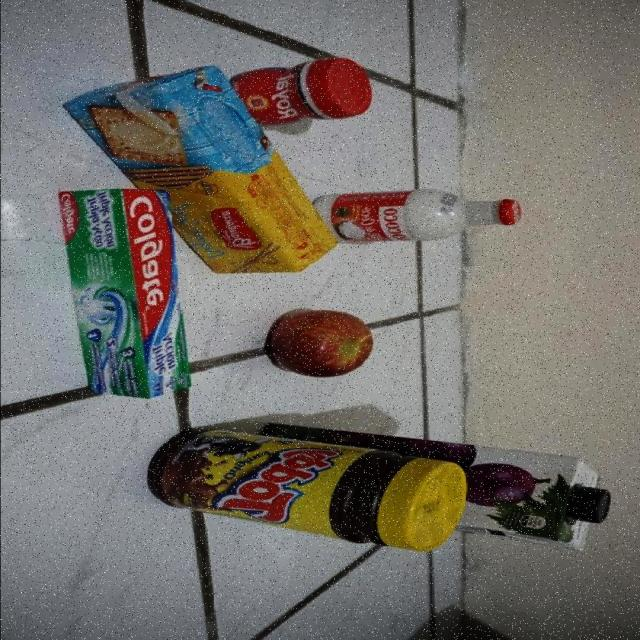Apple: (268, 310, 373, 378)
ChocolatePowder: (141, 428, 469, 552)
CoconutMilk: (308, 188, 522, 243)
Cracker: (62, 64, 338, 273)
Toothpaste: (60, 188, 192, 398)
Yeast: (224, 56, 372, 128)
